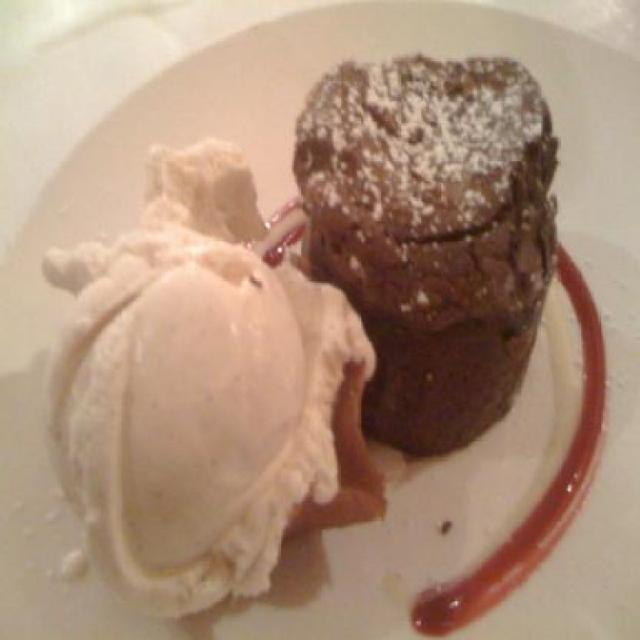Muffin: (292, 59, 566, 466)
